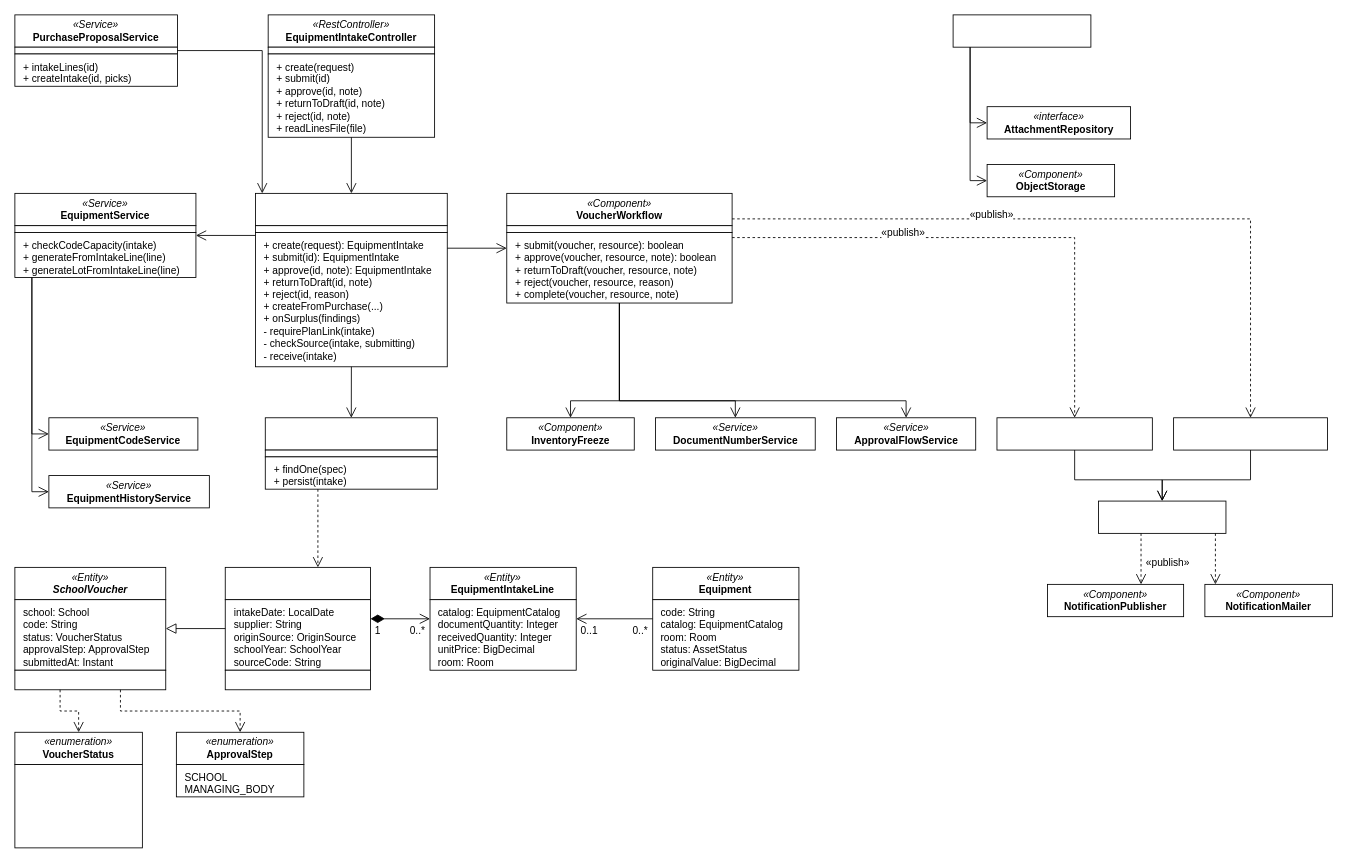
Image size: 1347x863. Some labels were removed from this diagram. Here are the shapes that lost their labels. From the top down, the centre of each, then its label:
(x=1021, y=30): «RestController» AttachmentController
(x=351, y=209): «Service» EquipmentIntakeService
(x=350, y=433): «interface» EquipmentIntakeRepository
(x=1074, y=433): «Component» VoucherProgressNotifier
(x=1250, y=433): «Component» VoucherDecisionNotifier
(x=1162, y=516): «Service» NotificationService
(x=297, y=583): «Entity» EquipmentIntake
(x=90, y=679): + numberPrefix(): String
(x=297, y=679): + numberPrefix(): "NK"
(x=78, y=806): DRAFT PENDING APPROVED COMPLETED REJECTED CANCELLED
